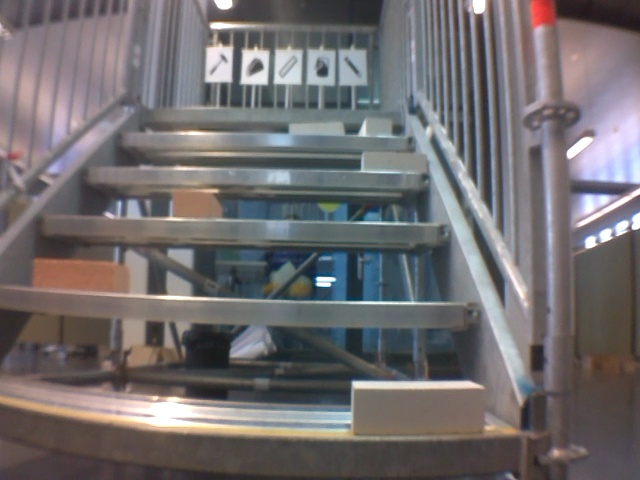brick: (351, 381, 486, 437), (34, 260, 128, 293), (172, 191, 221, 217), (361, 153, 425, 171), (289, 122, 343, 134), (359, 118, 390, 135)
bucket: (310, 53, 332, 80)
edge: (2, 403, 515, 475), (1, 288, 479, 326), (40, 215, 452, 244), (83, 167, 431, 188), (120, 132, 417, 149), (142, 109, 403, 121)
hammer: (205, 51, 229, 78)
pencil: (343, 54, 364, 80)
ruler: (276, 53, 299, 79)
stairs: (2, 2, 580, 475)
steps: (0, 104, 517, 478)
taco: (243, 55, 267, 79)
